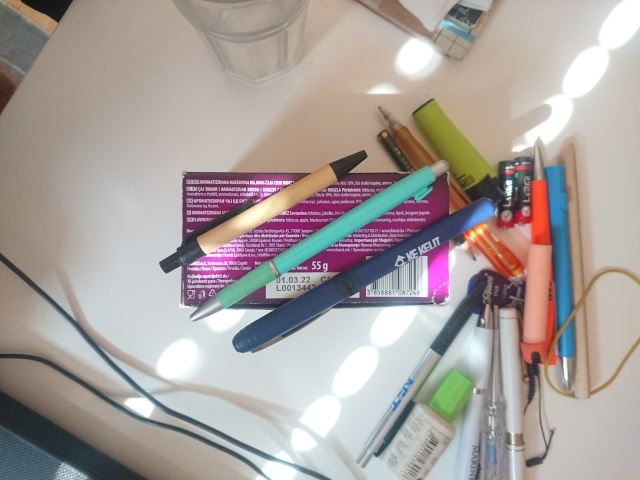Franck Black Currant Tea 60g: (177, 168, 453, 311)
